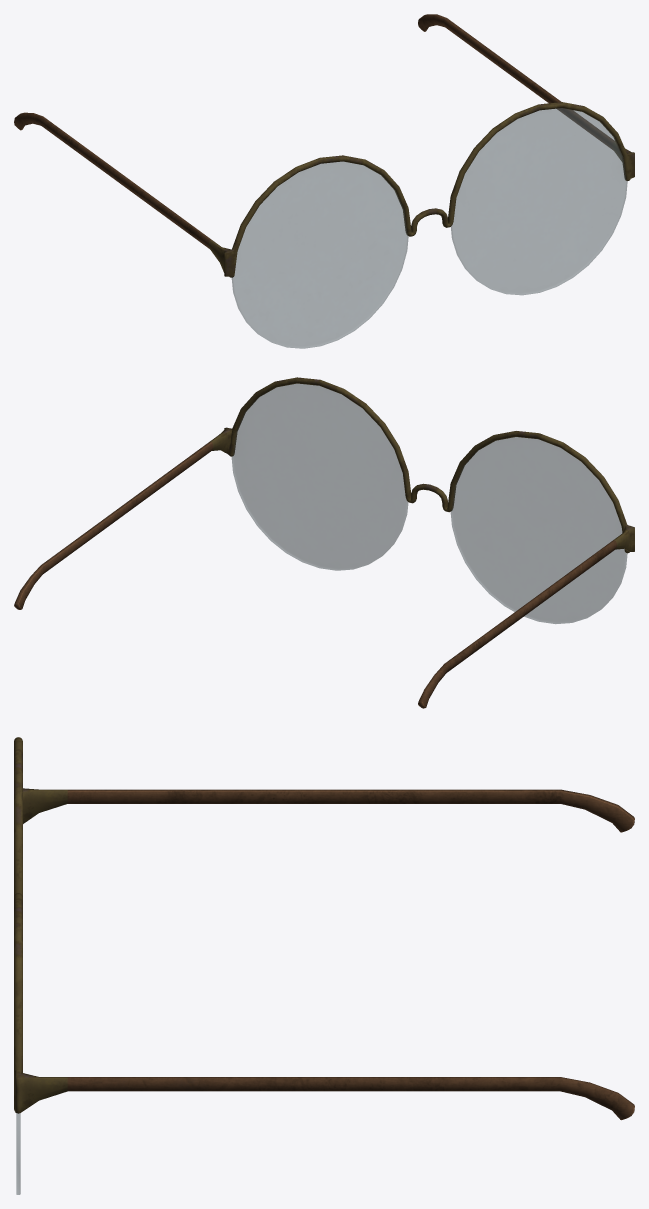
3 renders of one model, top to bottom at view 1: azimuth 30°, elevation 25°; view 2: azimuth 150°, elevation 25°; view 3: azimuth 270°, elevation 25°, orthographic. The views are drawn at different scales.
Visible parts, largest first — view 1: pCylinder2, pCylinder1, polySurface9; view 2: pCylinder1, pCylinder2, polySurface9; view 3: polySurface9.
Boxes of the visible parts, <box> form: pCylinder2: <box>231,161,408,348</box>; pCylinder1: <box>451,108,627,295</box>; polySurface9: <box>14,14,634,277</box>; pCylinder1: <box>231,383,408,570</box>; pCylinder2: <box>450,437,627,623</box>; polySurface9: <box>14,377,634,708</box>; polySurface9: <box>14,737,634,1120</box>.
Bounding box in the file's own units: 127 × 55.34 × 114.
Materials: 1 (1 with a texture image).
